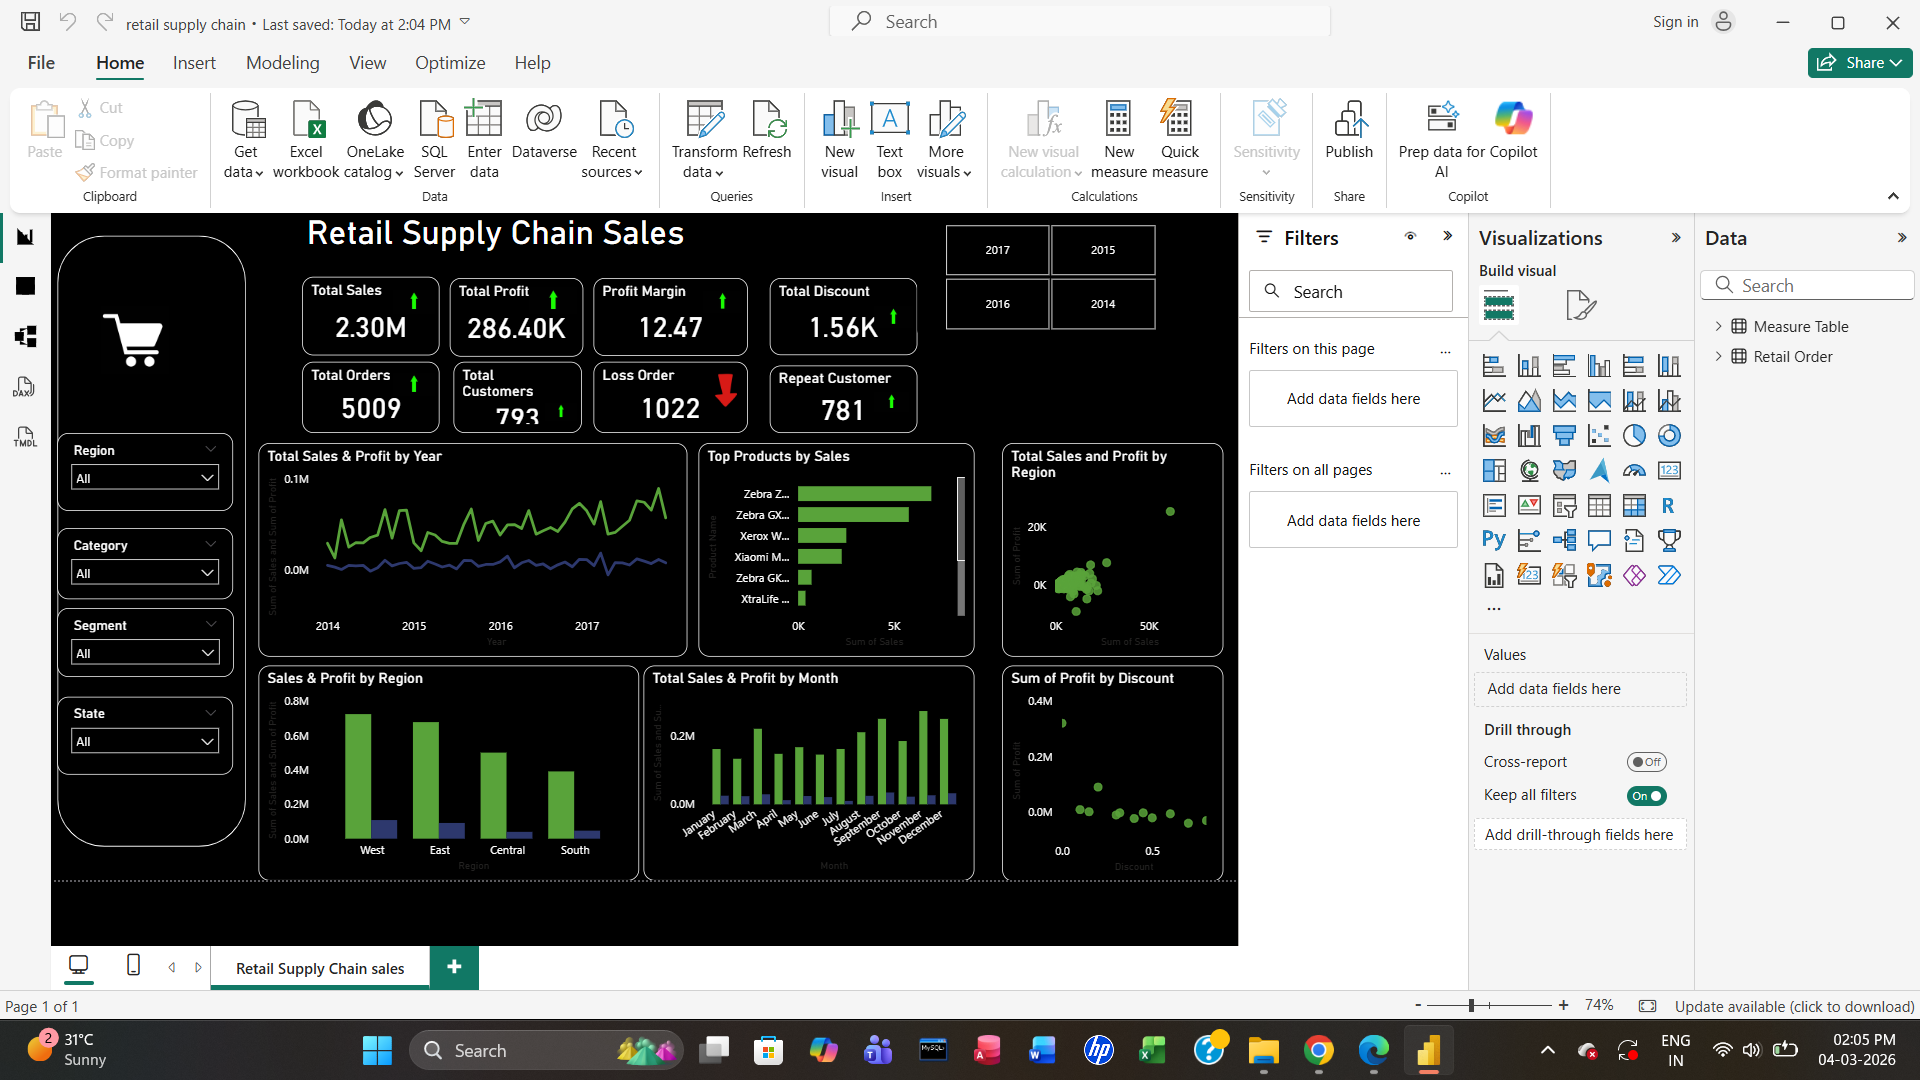

What the dashboard file says about the page in this screenshot:
{"tool":"powerbi","page":{"name":"Retail Supply Chain sales","canvas":[1280,720],"ordinal":0},"visuals":[{"type":"shape","box":[6.7,24.3,203.5,659],"z":0},{"type":"card","title":"Total Sales","fields":{"Values":["Sum(Retail Order.Sales)"]},"box":[270.3,68.6,148.2,85.1],"z":1000},{"type":"card","title":"Total Profit","fields":{"Values":["Sum(Retail Order.Profit)"]},"box":[429.5,70,144.1,85.1],"z":2000},{"type":"card","title":"Profit Margin","fields":{"Values":["Measure Table.profit margin"]},"box":[584.6,70,166,83.7],"z":3000},{"type":"card","title":"Total Discount","fields":{"Values":["Sum(Retail Order.Discount)"]},"box":[774.9,70.1,159,83.6],"z":4000},{"type":"card","title":"Total Orders","fields":{"Values":["Count(Retail Order.Order ID)"]},"box":[270.3,160.5,148.2,76.8],"z":5000},{"type":"card","title":"Total Customers","fields":{"Values":["Count(Retail Order.Customer Name)"]},"box":[433.6,160.5,138.6,76.8],"z":6000},{"type":"card","title":"Loss Order","fields":{"Values":["Measure Table.loss order"]},"box":[584.6,160.5,166,76.8],"z":7000},{"type":"card","title":"Repeat Customer","fields":{"Values":["Measure Table.repeat custm"]},"box":[774.9,164.4,159,72.8],"z":8000},{"type":"slicer","fields":{"Values":["Retail Order.Region"]},"box":[6.9,237.4,189.4,83.7],"z":9000},{"type":"slicer","fields":{"Values":["Retail Order.Category"]},"box":[6.9,338.9,189.4,76.8],"z":10000},{"type":"slicer","fields":{"Values":["Retail Order.Segment"]},"box":[6.7,425.9,190,74.1],"z":11000},{"type":"slicer","fields":{"Values":["Retail Order.State"]},"box":[6.9,521.4,189.4,83.7],"z":12000},{"type":"textbox","title":"Retail Supply Chain Sales Analysis","box":[270.3,0,602.4,48],"z":13000},{"type":"slicer","fields":{"Values":["Retail Order.year"]},"box":[934,1.4,285.4,135.8],"z":14000},{"type":"lineChart","title":"Total Sales & Profit by Year","fields":{"Y":["Sum(Retail Order.Sales)","Sum(Retail Order.Profit)"],"Category":["Retail Order.Order Date.Variation.Date Hierarchy.Year","Retail Order.Order Date.Variation.Date Hierarchy.Quarter","Retail Order.Order Date.Variation.Date Hierarchy.Month","Retail Order.Order Date.Variation.Date Hierarchy.Day"]},"box":[223.7,248.4,462.4,230.5],"z":15000},{"type":"clusteredBarChart","title":"Top Products by Sales","fields":{"Category":["Retail Order.Product Name"],"Y":["Sum(Retail Order.Sales)"]},"box":[698.5,248.4,297.8,230.5],"z":16000},{"type":"clusteredColumnChart","title":"Sales & Profit by Region","fields":{"Category":["Retail Order.Region"],"Y":["Sum(Retail Order.Sales)","Sum(Retail Order.Profit)"]},"box":[223.7,488.5,410.3,231.9],"z":17000},{"type":"clusteredColumnChart","title":"Total Sales & Profit by Month","fields":{"Category":["Retail Order.Order Date.Variation.Date Hierarchy.Month"],"Y":["Sum(Retail Order.Sales)","Sum(Retail Order.Profit)"]},"box":[639.5,488.5,356.8,231.9],"z":18000},{"type":"scatterChart","title":"Total Sales and Profit by Region","fields":{"X":["Sum(Retail Order.Sales)"],"Y":["Sum(Retail Order.Profit)"],"Category":["Retail Order.Product Name"]},"box":[1025.6,248,238.5,230.4],"z":19000},{"type":"scatterChart","fields":{"X":["Retail Order.Discount"],"Y":["Sum(Retail Order.Profit)"]},"box":[1025.6,487.9,238.5,233.1],"z":20000},{"type":"image","box":[686,168.5,82.2,45.8],"z":21000},{"type":"image","box":[363.9,70.1,55.3,51.2],"z":22000},{"type":"image","box":[510.8,28.3,62,133.4],"z":23000},{"type":"image","box":[698.1,66,52.6,59.3],"z":24000},{"type":"image","box":[363.9,161.7,55.3,47.2],"z":25000},{"type":"image","box":[528.3,180.6,43.1,67.4],"z":26000},{"type":"image","box":[882.7,180.6,47.2,45.8],"z":27000},{"type":"image","box":[47.2,95.7,86.3,83.6],"z":28000},{"type":"image","box":[882.7,86.3,51.2,51.2],"z":29000}]}

Visuals, with their boxes on the page's 1280x720 design canvas (x1, y1, x2, y2). These are canvas units, not pixel positions in the 1920x1080 screenshot, which may show the page scaled, cropped or inside an application window:
shape: locate(7, 24, 210, 683)
"Total Sales" card: locate(270, 69, 418, 154)
"Total Profit" card: locate(430, 70, 574, 155)
"Profit Margin" card: locate(585, 70, 751, 154)
"Total Discount" card: locate(775, 70, 934, 154)
"Total Orders" card: locate(270, 160, 418, 237)
"Total Customers" card: locate(434, 160, 572, 237)
"Loss Order" card: locate(585, 160, 751, 237)
"Repeat Customer" card: locate(775, 164, 934, 237)
slicer - Retail Order.Region: locate(7, 237, 196, 321)
slicer - Retail Order.Category: locate(7, 339, 196, 416)
slicer - Retail Order.Segment: locate(7, 426, 197, 500)
slicer - Retail Order.State: locate(7, 521, 196, 605)
"Retail Supply Chain Sales Analysis" textbox: locate(270, 0, 873, 48)
slicer - Retail Order.year: locate(934, 1, 1219, 137)
"Total Sales & Profit by Year" lineChart: locate(224, 248, 686, 479)
"Top Products by Sales" clusteredBarChart: locate(698, 248, 996, 479)
"Sales & Profit by Region" clusteredColumnChart: locate(224, 488, 634, 720)
"Total Sales & Profit by Month" clusteredColumnChart: locate(640, 488, 996, 720)
"Total Sales and Profit by Region" scatterChart: locate(1026, 248, 1264, 478)
scatterChart - Retail Order.Discount x Sum(Retail Order.Profit): locate(1026, 488, 1264, 721)
image: locate(686, 168, 768, 214)
image: locate(364, 70, 419, 121)
image: locate(511, 28, 573, 162)
image: locate(698, 66, 751, 125)
image: locate(364, 162, 419, 209)
image: locate(528, 181, 571, 248)
image: locate(883, 181, 930, 226)
image: locate(47, 96, 134, 179)
image: locate(883, 86, 934, 138)
